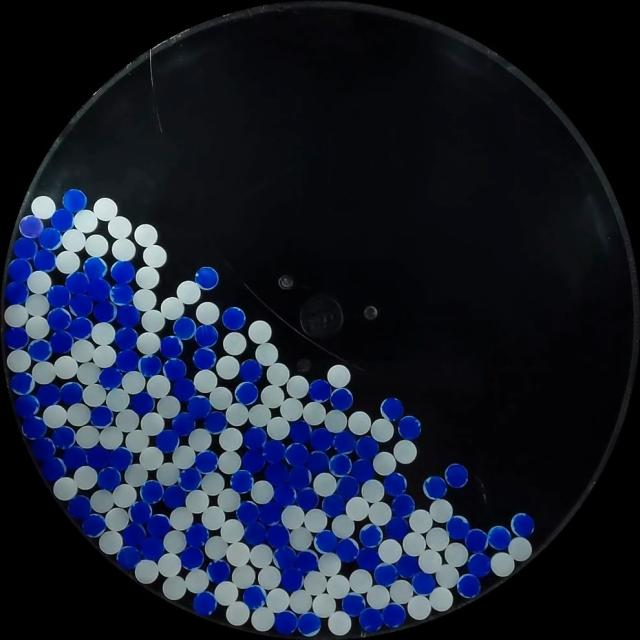pmmma-azul: (488, 524, 514, 552), (31, 436, 57, 462), (40, 455, 66, 481), (139, 534, 164, 560), (356, 545, 381, 571), (85, 276, 111, 301), (272, 544, 298, 569), (280, 566, 304, 593), (14, 393, 39, 418), (36, 382, 61, 407), (297, 611, 322, 636), (147, 513, 172, 538), (358, 607, 383, 632), (62, 446, 88, 470), (243, 520, 267, 546), (68, 494, 92, 520), (81, 514, 107, 538), (193, 590, 217, 616), (381, 602, 405, 628), (194, 449, 218, 474), (179, 546, 204, 570), (162, 484, 186, 509), (284, 442, 308, 467), (108, 446, 132, 471), (172, 377, 196, 402), (335, 537, 359, 562), (456, 573, 480, 598), (47, 307, 72, 331), (258, 500, 283, 524), (116, 545, 141, 569), (351, 458, 376, 482), (446, 515, 470, 540), (110, 260, 135, 284), (467, 552, 491, 577), (464, 528, 488, 553), (129, 391, 154, 415), (13, 237, 38, 261), (22, 415, 47, 439), (444, 463, 468, 488), (510, 512, 534, 537), (83, 256, 108, 280), (51, 425, 76, 449), (8, 257, 32, 282), (62, 189, 87, 213), (243, 448, 265, 475), (262, 438, 286, 462), (187, 395, 211, 419), (236, 501, 260, 525), (398, 415, 422, 439), (59, 382, 83, 406), (68, 316, 92, 340), (242, 426, 266, 450), (395, 553, 419, 577), (391, 493, 415, 517), (385, 516, 409, 540), (115, 348, 139, 372), (185, 524, 209, 548), (332, 430, 356, 454), (373, 562, 397, 586), (322, 492, 346, 516), (354, 436, 378, 460), (86, 445, 110, 469), (97, 466, 121, 490), (33, 248, 57, 272), (10, 372, 34, 396), (243, 585, 267, 609), (274, 610, 298, 634), (222, 306, 246, 330), (5, 327, 29, 351), (50, 208, 74, 232), (5, 280, 29, 304), (69, 293, 93, 317), (130, 500, 153, 525), (192, 346, 217, 369), (115, 326, 138, 351), (50, 329, 73, 354), (423, 475, 446, 500), (115, 304, 140, 327), (272, 482, 297, 505), (314, 530, 337, 554), (155, 429, 179, 452), (383, 472, 406, 496), (172, 412, 196, 435), (330, 387, 353, 411), (47, 285, 71, 308), (411, 571, 435, 594), (230, 469, 253, 493), (173, 316, 197, 339), (178, 467, 201, 491), (66, 271, 90, 294), (39, 227, 62, 251), (266, 524, 289, 548), (28, 339, 52, 362), (140, 480, 163, 504), (336, 475, 359, 499), (380, 397, 403, 421), (195, 266, 218, 290), (93, 300, 117, 323), (310, 427, 333, 451), (288, 464, 310, 489), (308, 379, 331, 402), (342, 593, 365, 616), (329, 453, 352, 476), (99, 366, 122, 389), (359, 524, 382, 547), (235, 381, 258, 404), (139, 354, 162, 377), (294, 550, 318, 572), (195, 324, 219, 346), (296, 488, 318, 512), (110, 283, 134, 305), (20, 214, 42, 238), (122, 525, 146, 547), (291, 419, 312, 444), (207, 560, 230, 582), (163, 358, 186, 380), (90, 406, 113, 428), (240, 359, 262, 382), (204, 411, 227, 433), (160, 335, 182, 358), (307, 452, 330, 473), (266, 463, 286, 484)
